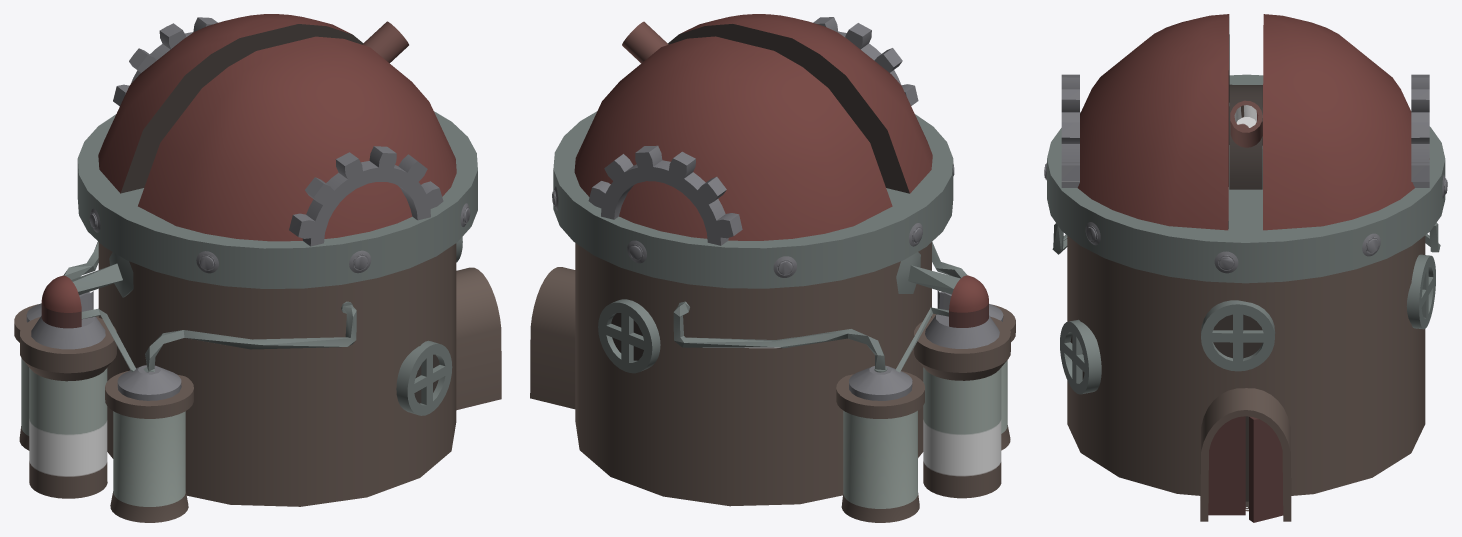
The model's file is Building18.fbx.
3 renders of one model, left to right at view 1: azimuth 30°, elevation 25°; view 2: azimuth 150°, elevation 25°; view 3: azimuth 270°, elevation 25°, orthographic.
Visible parts, largest first — view 1: watercollector.001; view 2: watercollector.001; view 3: watercollector.001.
Boxes of the visible parts, x1=… form: watercollector.001: x1=14, y1=14, x2=501, y2=522; watercollector.001: x1=530, y1=14, x2=1015, y2=522; watercollector.001: x1=1044, y1=14, x2=1447, y2=522.
Size of the model in its own units: 1171 by 968 by 904.
1 material, 1 textured.
